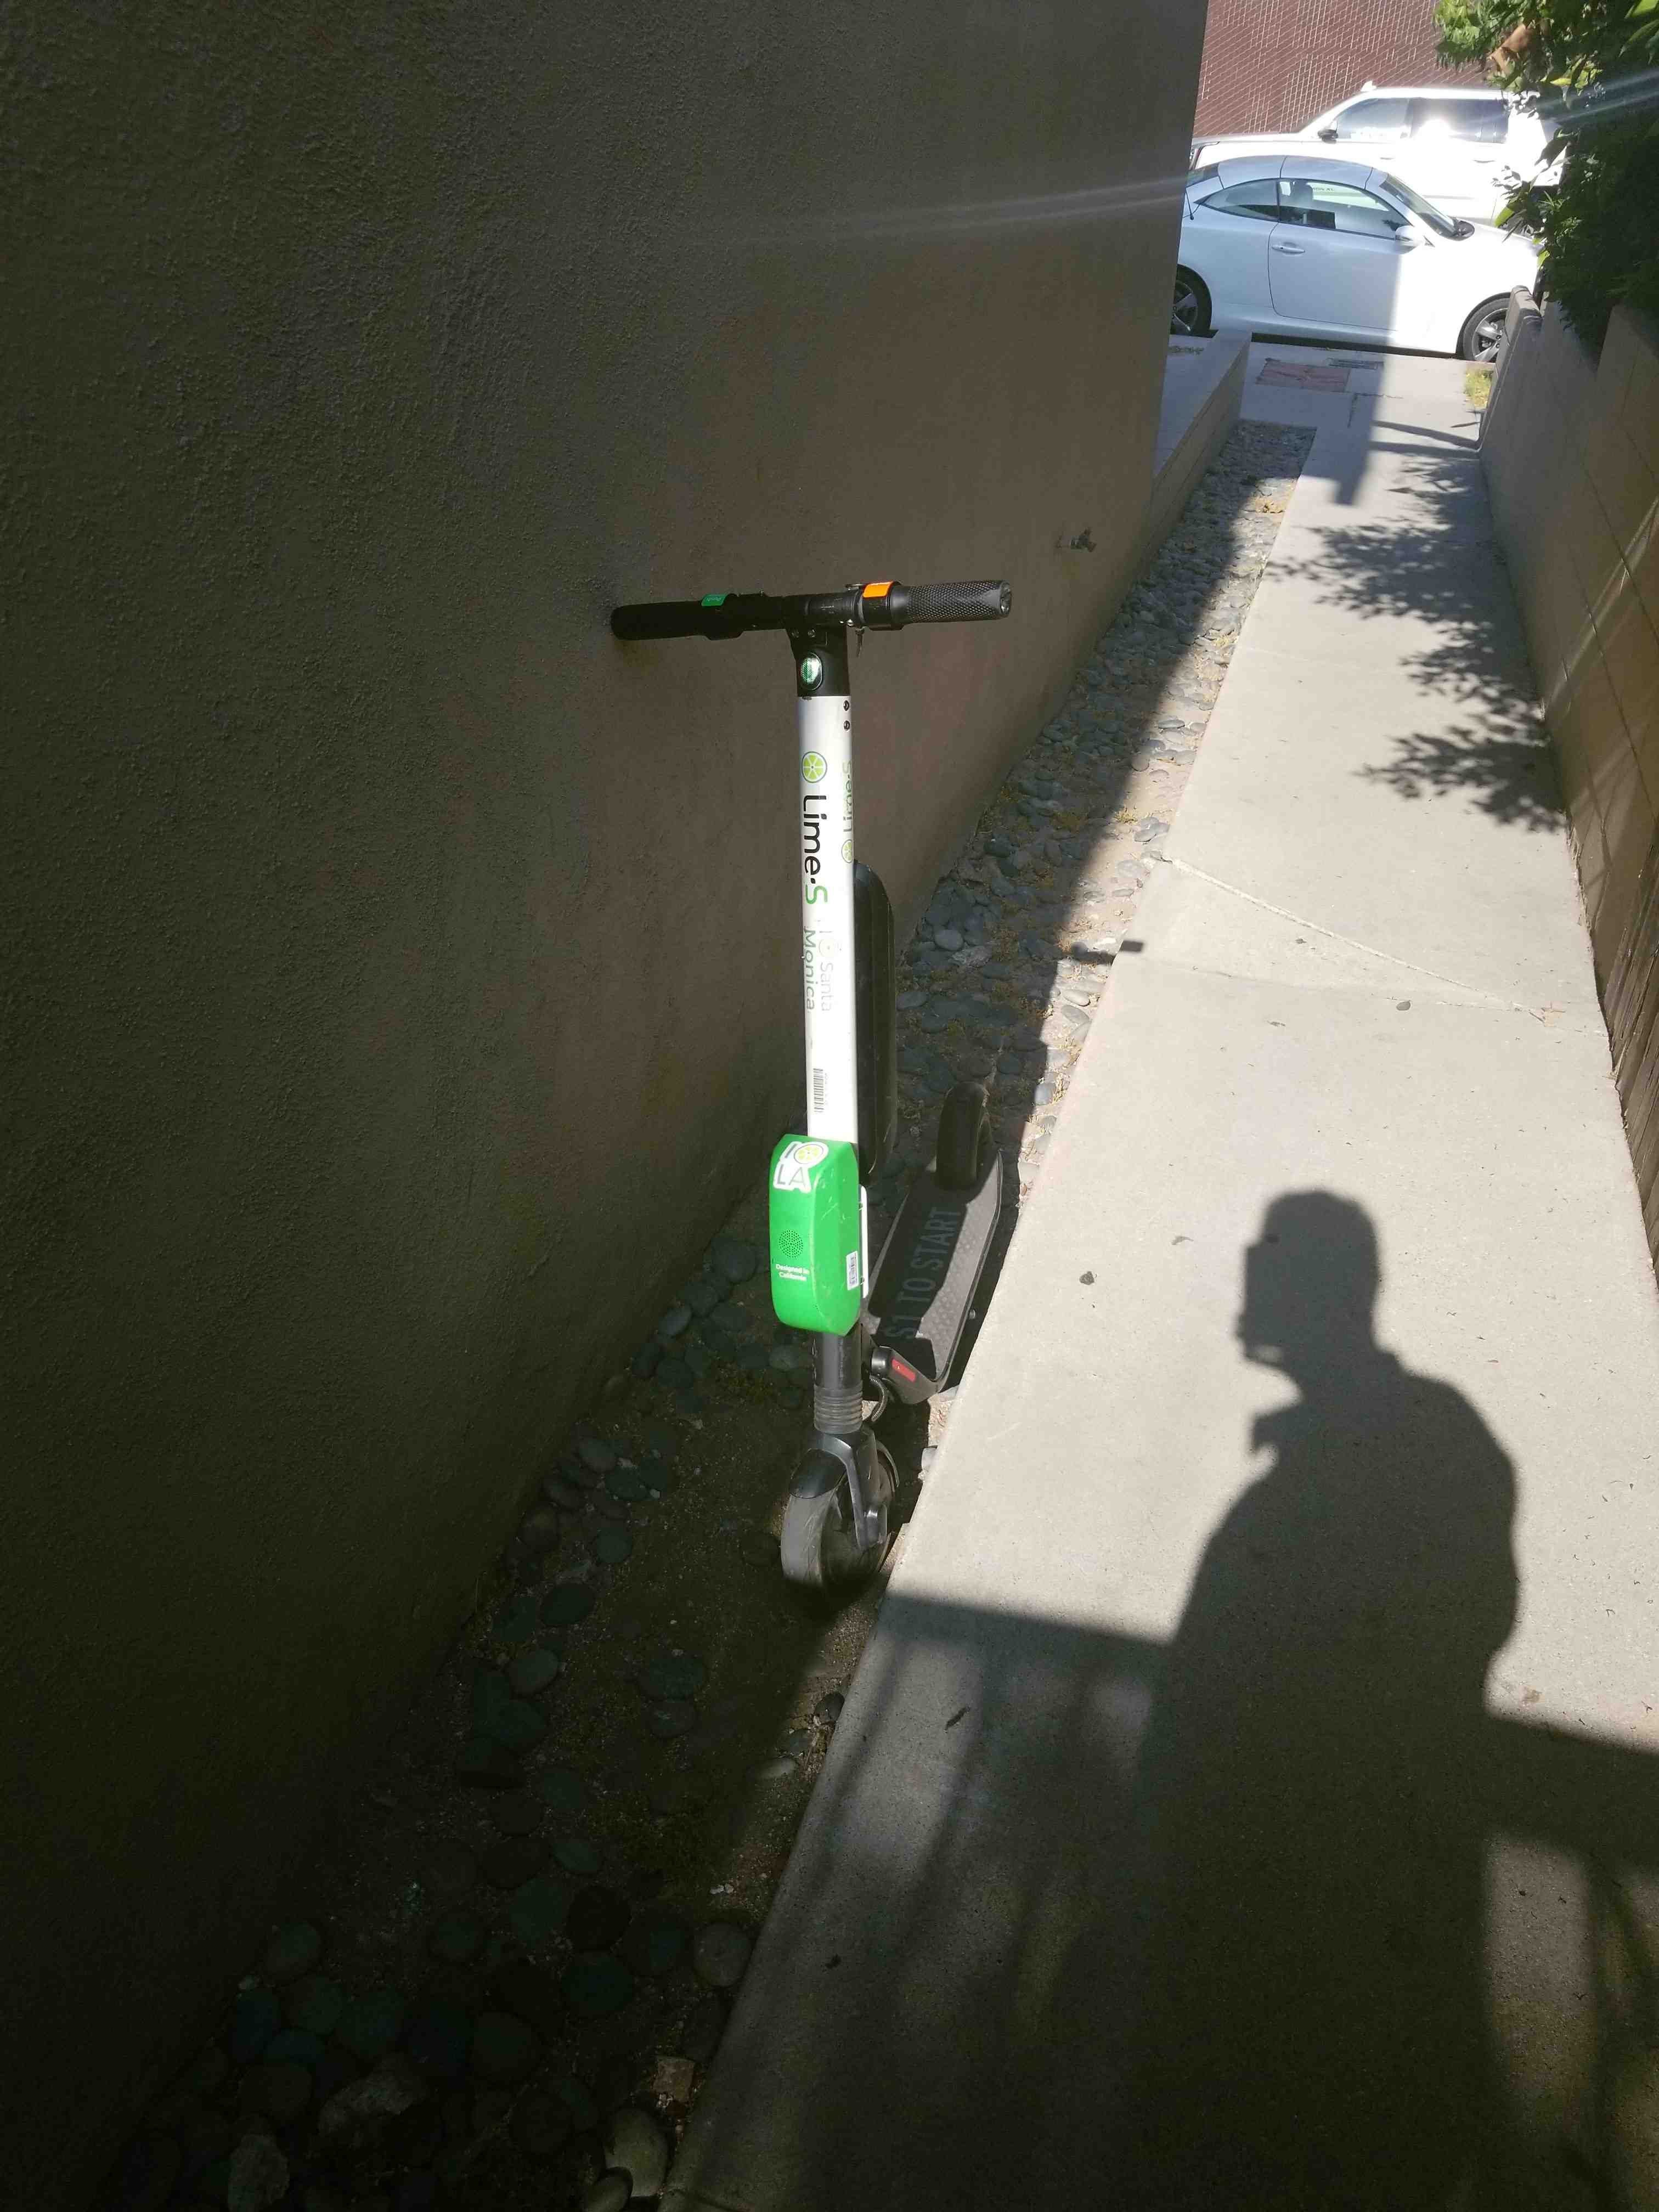scooter: (587, 517, 1049, 1580)
